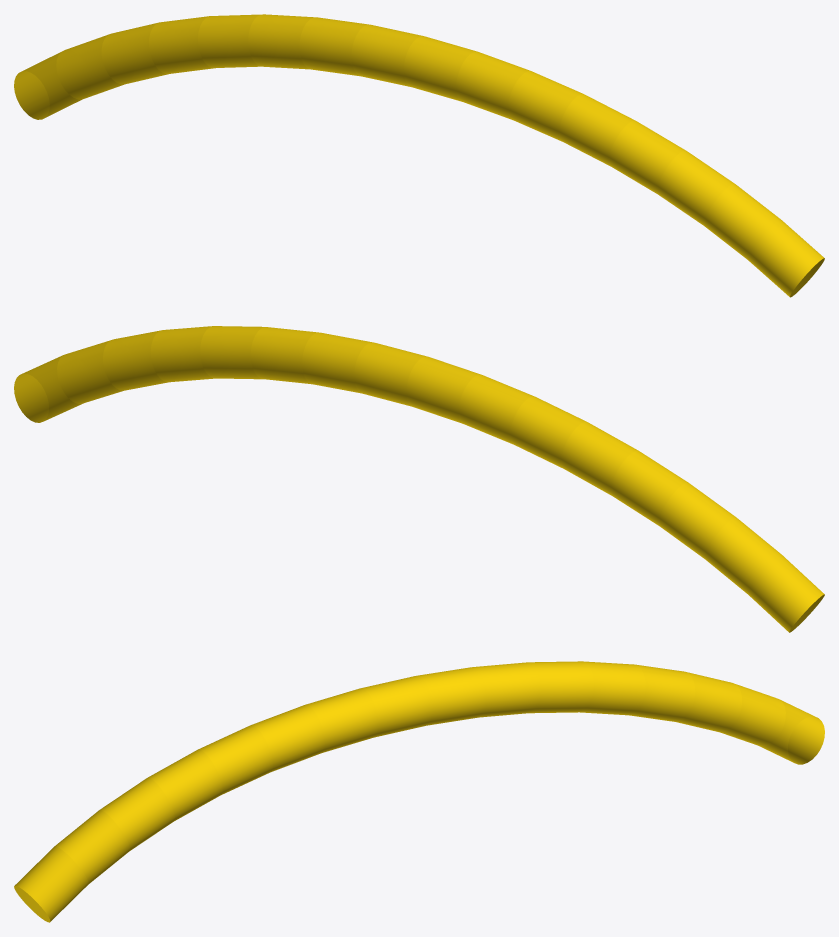
The model's file is Event_420107950_track_55.fbx.
3 renders of one model, top to bottom at view 1: azimuth 30°, elevation 25°; view 2: azimuth 210°, elevation 25°; view 3: azimuth 270°, elevation 25°, orthographic. The views are drawn at different scales.
Parts seen in each view (by area): view 1: Model; view 2: Model; view 3: Model.
Part boxes in pixels (x1,y1,x2,y2): Model: (14, 14, 824, 297); Model: (14, 326, 824, 632); Model: (14, 661, 824, 922).
Bounding box in the file's own units: 0.3676 × 0.1478 × 0.6336.
